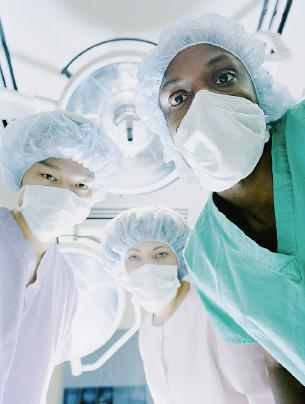OK: (153, 49, 275, 188), (19, 158, 106, 245), (117, 235, 193, 311)
